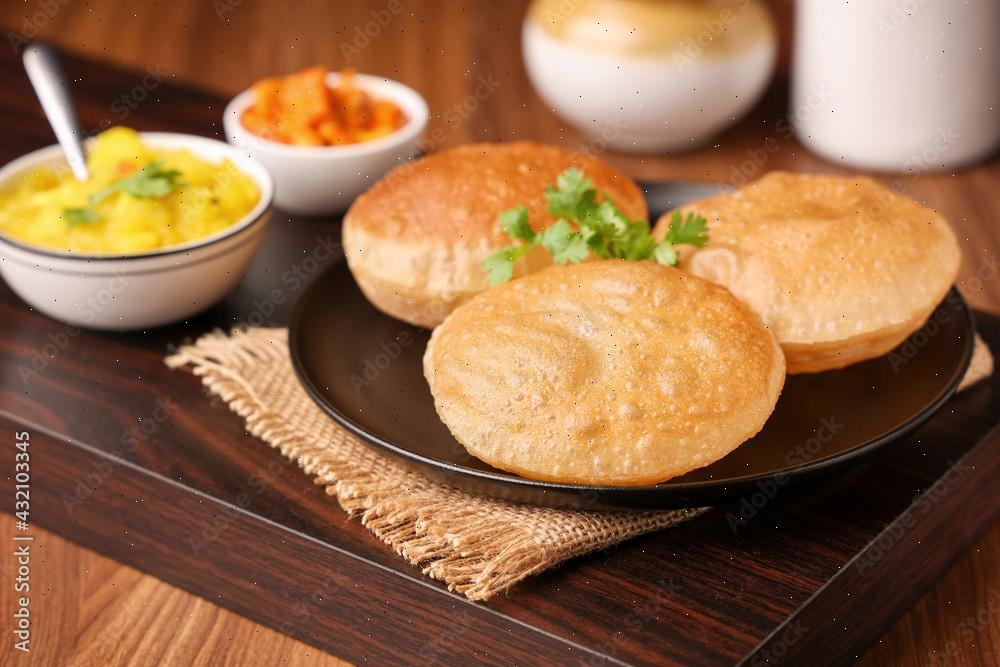puri: (347, 155, 968, 485)
